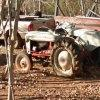Tractor: (10, 11, 100, 83)
